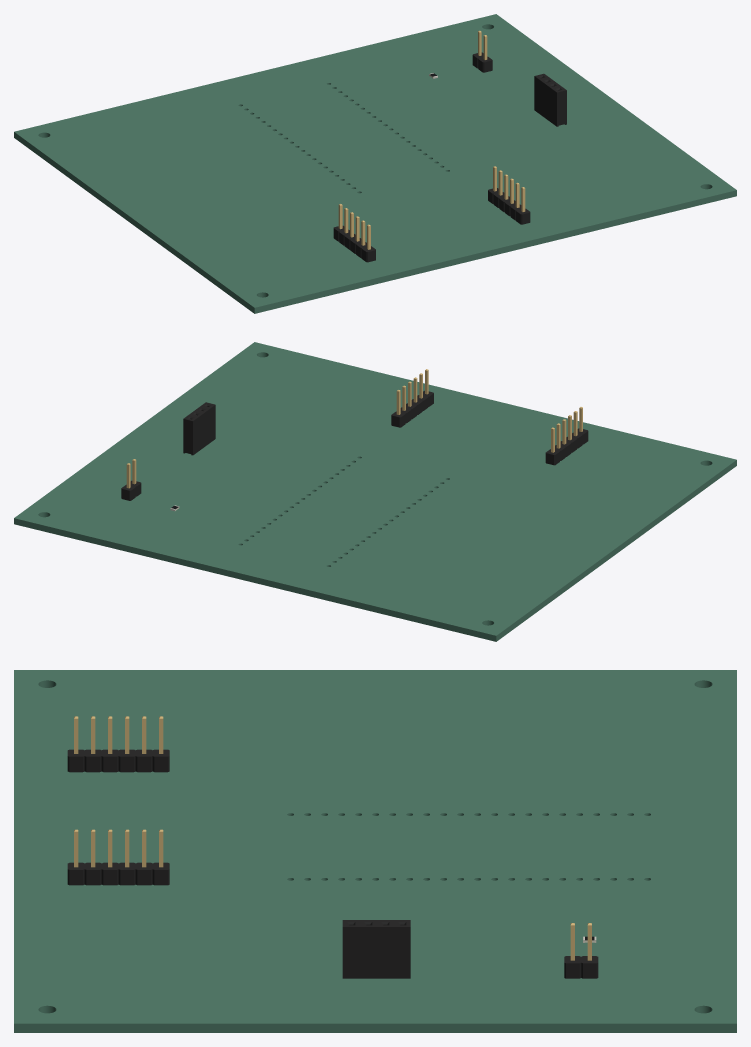
The model's file is motopulse_pcb_3d.glb.
The picture shows the model from 3 angles, top to bottom: view 1: azimuth 30°, elevation 25°; view 2: azimuth 150°, elevation 25°; view 3: azimuth 270°, elevation 25°; orthographic projection. The views are drawn at different scales.
Parts seen in each view (by area): view 1: =>[0:1:1:10], =>[0:1:1:3] (×2), =>[0:1:1:9], =>[0:1:1:5]; view 2: =>[0:1:1:10], =>[0:1:1:3] (×2), =>[0:1:1:9], =>[0:1:1:5]; view 3: =>[0:1:1:10], =>[0:1:1:3] (×2), =>[0:1:1:9], =>[0:1:1:5].
Part boxes in pixels (x1=…): =>[0:1:1:10]: x1=14, y1=14, x2=736, y2=313; =>[0:1:1:3] (×2): x1=333, y1=166, x2=530, y2=262; =>[0:1:1:9]: x1=534, y1=73, x2=566, y2=126; =>[0:1:1:5]: x1=472, y1=30, x2=492, y2=72; =>[0:1:1:10]: x1=14, y1=342, x2=736, y2=641; =>[0:1:1:3] (×2): x1=391, y1=369, x2=588, y2=465; =>[0:1:1:9]: x1=183, y1=402, x2=215, y2=455; =>[0:1:1:5]: x1=121, y1=459, x2=141, y2=500; =>[0:1:1:10]: x1=14, y1=670, x2=736, y2=1032; =>[0:1:1:3] (×2): x1=67, y1=716, x2=169, y2=885; =>[0:1:1:9]: x1=342, y1=920, x2=410, y2=978; =>[0:1:1:5]: x1=564, y1=923, x2=598, y2=978.
Bounding box in the file's own units: 0.125 × 0.0116 × 0.108.
